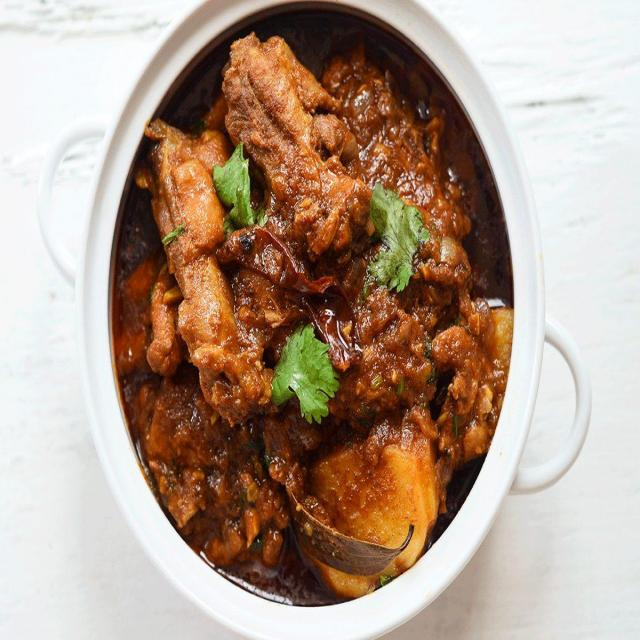chicken: (150, 31, 488, 598)
